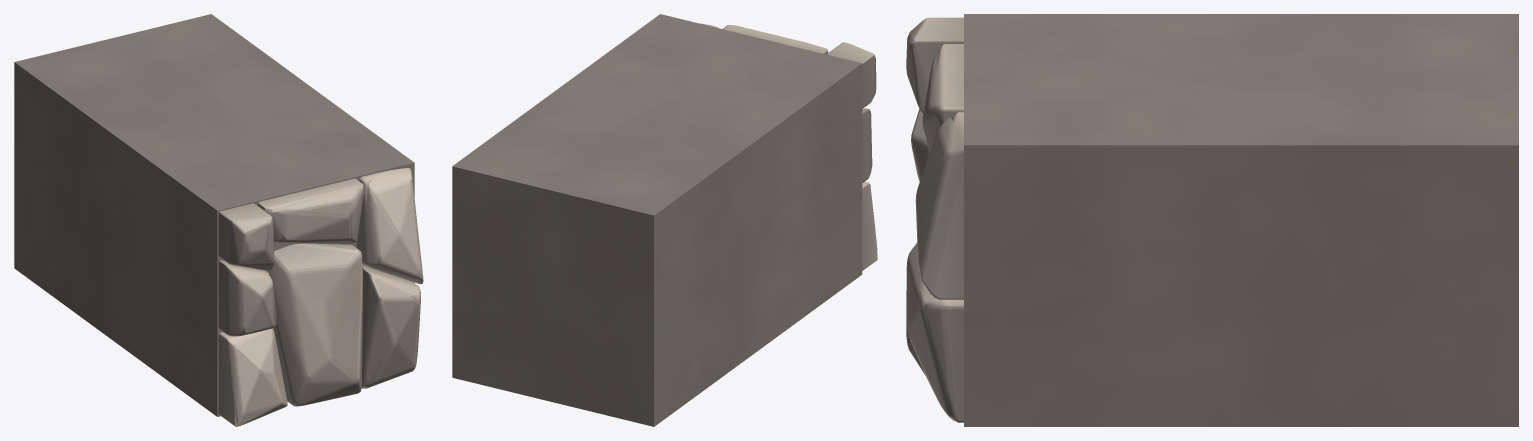
The model's file is CC_T04_LimestoneCore.fbx.
3 views of the same model, side by side, from view 1: azimuth 30°, elevation 25°; view 2: azimuth 150°, elevation 25°; view 3: azimuth 270°, elevation 25° (orthographic). The views are drawn at different scales.
Parts seen in each view (by area): view 1: Rock; view 2: Rock; view 3: Rock.
Part boxes in pixels (x1,y1,x2,y2): Rock: [14, 14, 423, 426]; Rock: [452, 14, 877, 426]; Rock: [906, 14, 1518, 426].
Size of the model in its own units: 2 by 2 by 3.94.
